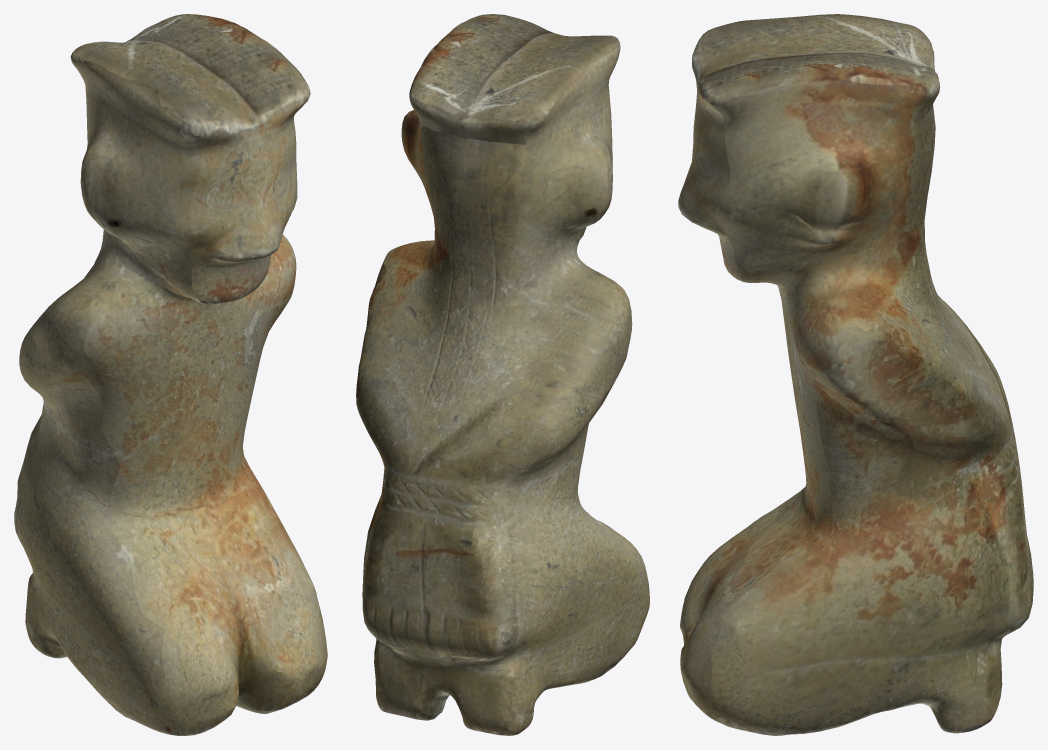
Rendered from shi_guizuo_renxiang.glb.
3 views of the same model, side by side, from view 1: azimuth 30°, elevation 25°; view 2: azimuth 150°, elevation 25°; view 3: azimuth 270°, elevation 25° (orthographic). The views are drawn at different scales.
Visible parts, largest first — view 1: 000-0-0_Material.002_0; view 2: 000-0-0_Material.002_0; view 3: 000-0-0_Material.002_0.
Part boxes in pixels (x1,y1,x2,y2): 000-0-0_Material.002_0: [14, 14, 327, 735]; 000-0-0_Material.002_0: [356, 14, 649, 735]; 000-0-0_Material.002_0: [678, 14, 1033, 735].
Bounding box in the file's own units: 10.57 × 27.21 × 13.08.
1 material, 1 textured.
